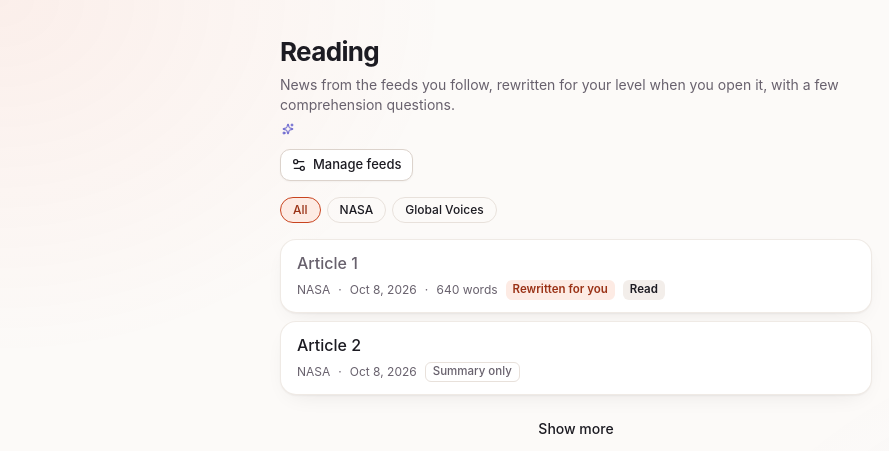
Test case: ReadingList › filters by feed
This screenshot has width=889, height=451.
Expected: the text "Article 1" is shown, [297, 253, 358, 273]
Click the button "Global Voices" at (444, 210), box [392, 197, 497, 223]
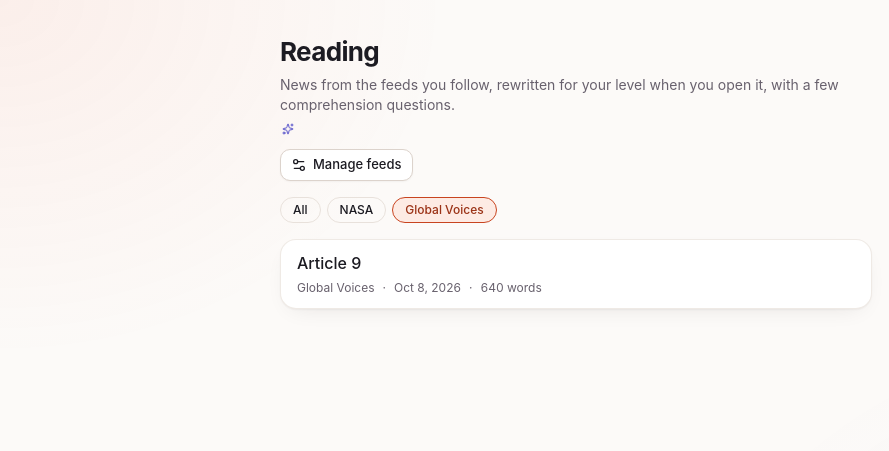
Now the text "Article 9" is shown, box [297, 253, 361, 273]
Now the link "Article 1" is gone
